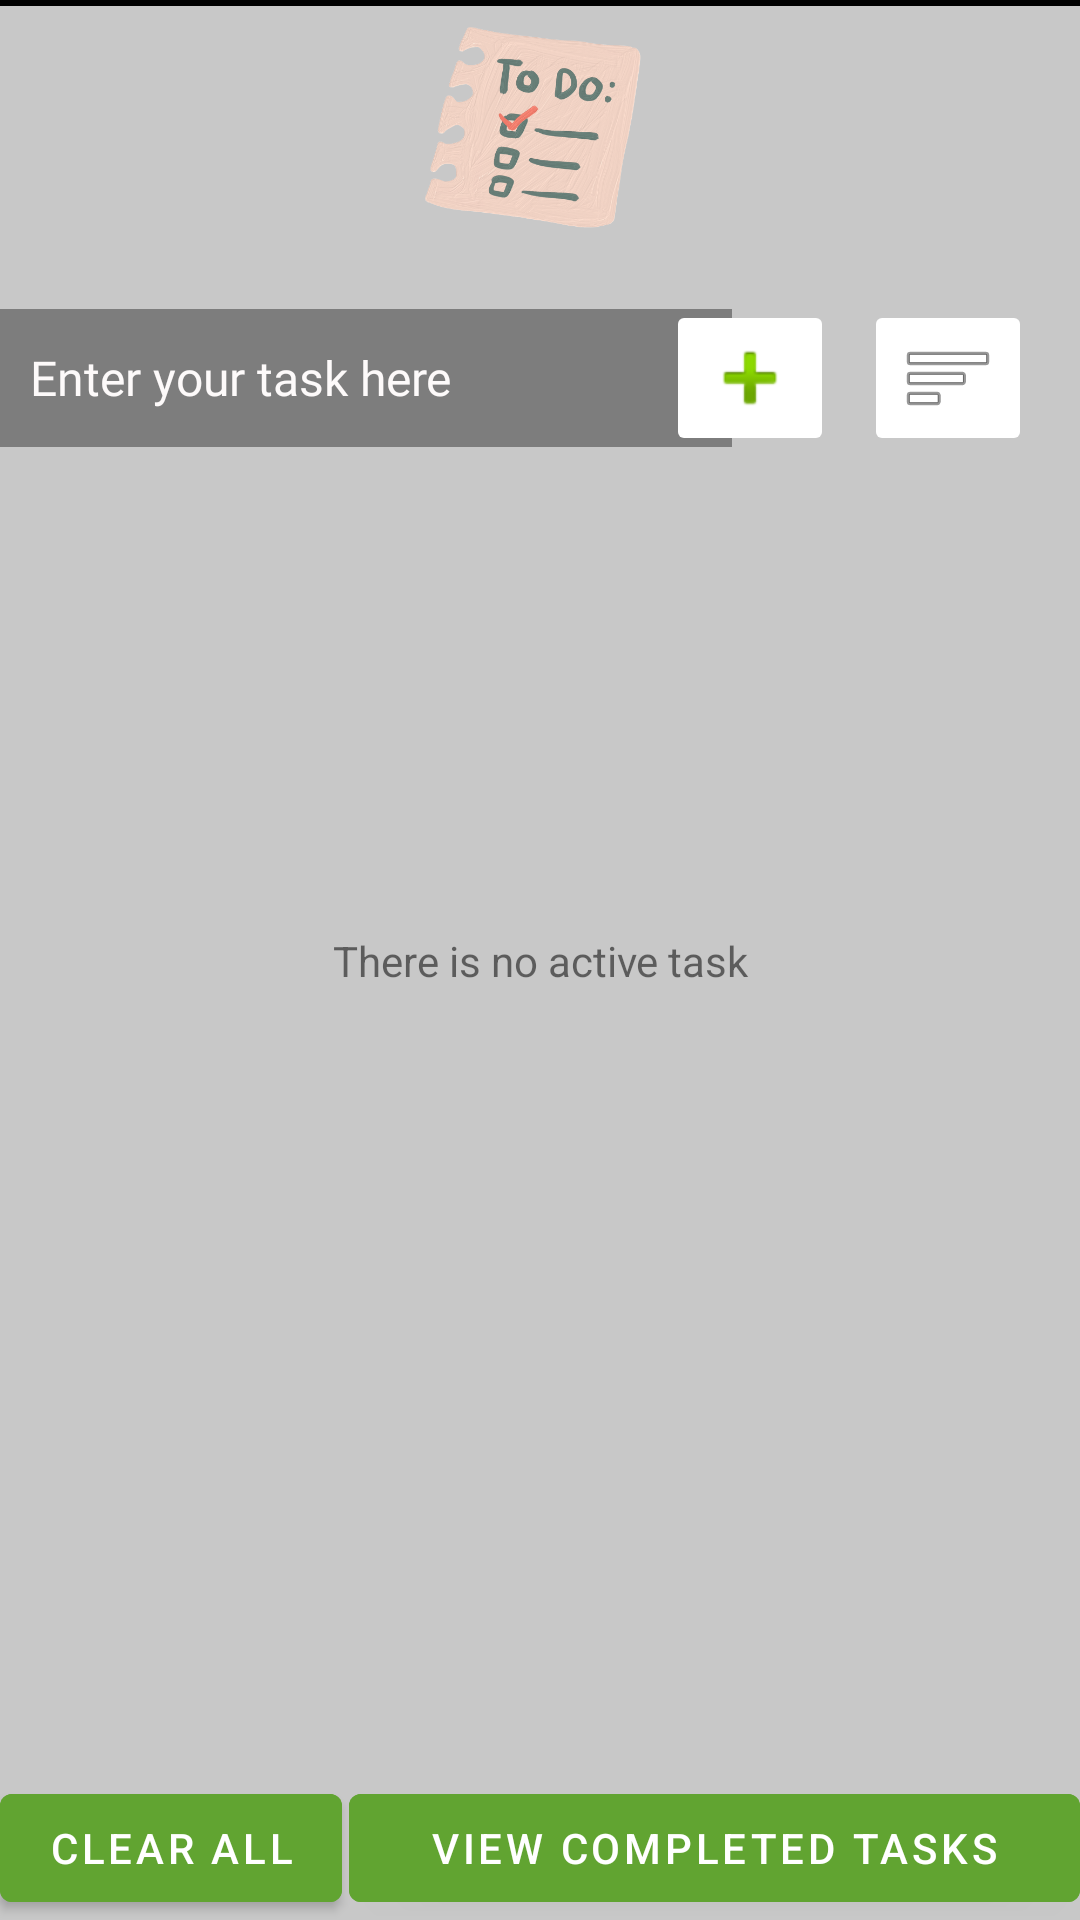

Locate icon controls on the screen. Image size 1080 × 1920, boxes as (x1=x1, y1=y1, x2=x2, y2=y2).
add: (x1=666, y1=309, x2=822, y2=447)
sort by size: (x1=876, y1=318, x2=1020, y2=438)
